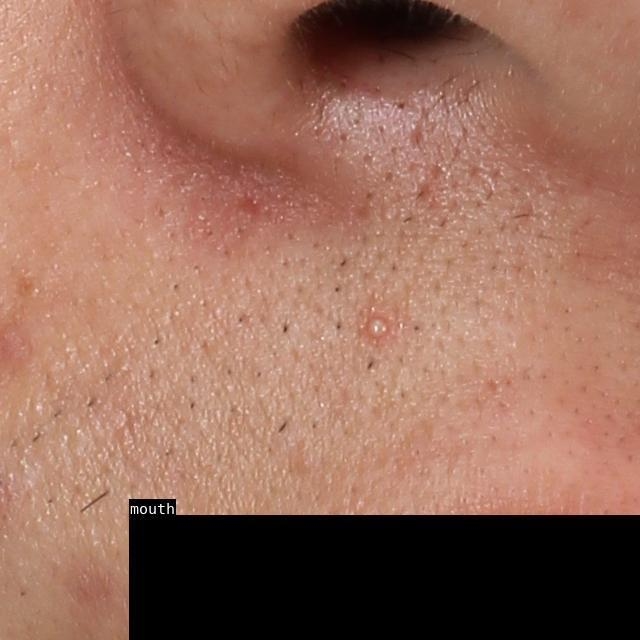pustule: (367, 314, 394, 341)
